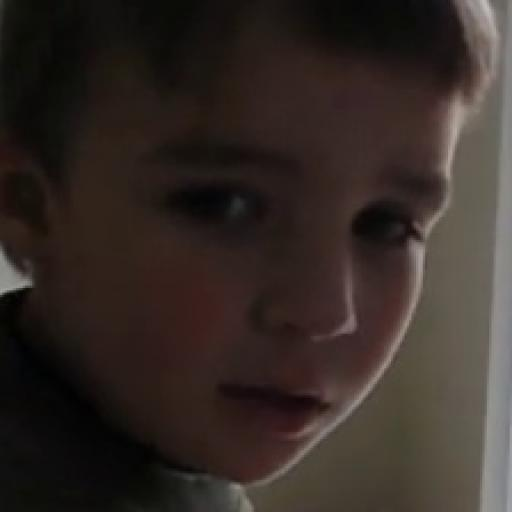Autism: (15, 14, 511, 495)
